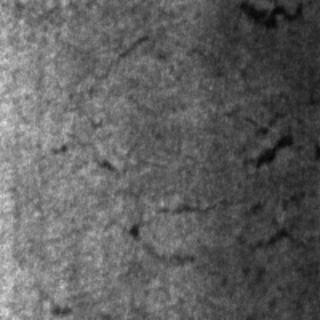crazing: (124, 192, 308, 266)
